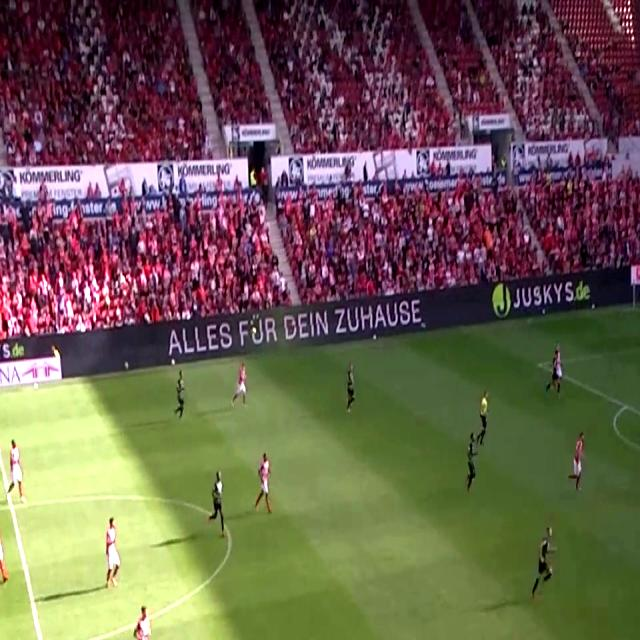referee: (475, 392, 495, 448)
soccer-player: (529, 524, 563, 604), (0, 436, 31, 513), (101, 512, 129, 593), (564, 427, 592, 494), (205, 468, 230, 542), (254, 450, 279, 520), (543, 342, 572, 398), (463, 431, 487, 495), (123, 602, 162, 640), (341, 363, 362, 418), (229, 357, 250, 408), (174, 371, 193, 425), (0, 525, 13, 594), (633, 436, 640, 492)
